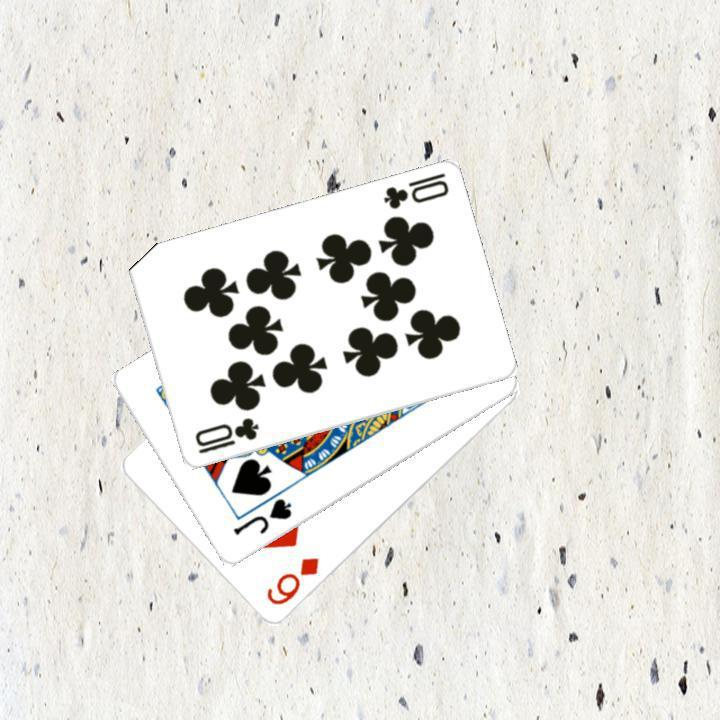10: (379, 169, 451, 212), (190, 414, 261, 457)
6: (262, 553, 321, 608)
J: (228, 494, 294, 538)
